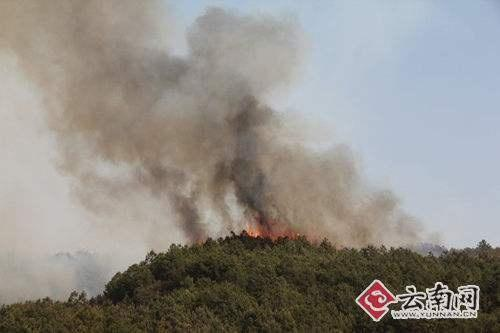fire: (242, 222, 262, 238)
